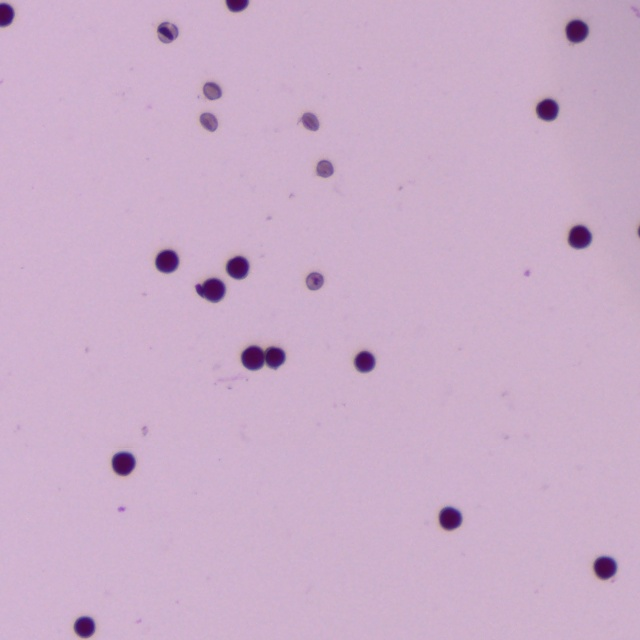intermediate: (157, 22, 177, 42)
non_viable: (199, 112, 217, 131), (301, 112, 318, 130), (316, 159, 333, 177), (203, 82, 221, 99), (306, 272, 323, 289)
viable: (197, 279, 223, 300), (112, 452, 134, 475), (155, 250, 178, 272), (568, 225, 591, 247), (439, 507, 461, 529), (242, 347, 265, 368), (566, 20, 587, 42), (594, 557, 616, 578), (536, 99, 557, 120), (354, 351, 374, 371), (74, 617, 94, 637), (227, 257, 247, 277), (267, 348, 283, 366), (0, 3, 13, 25), (226, 0, 247, 11)
